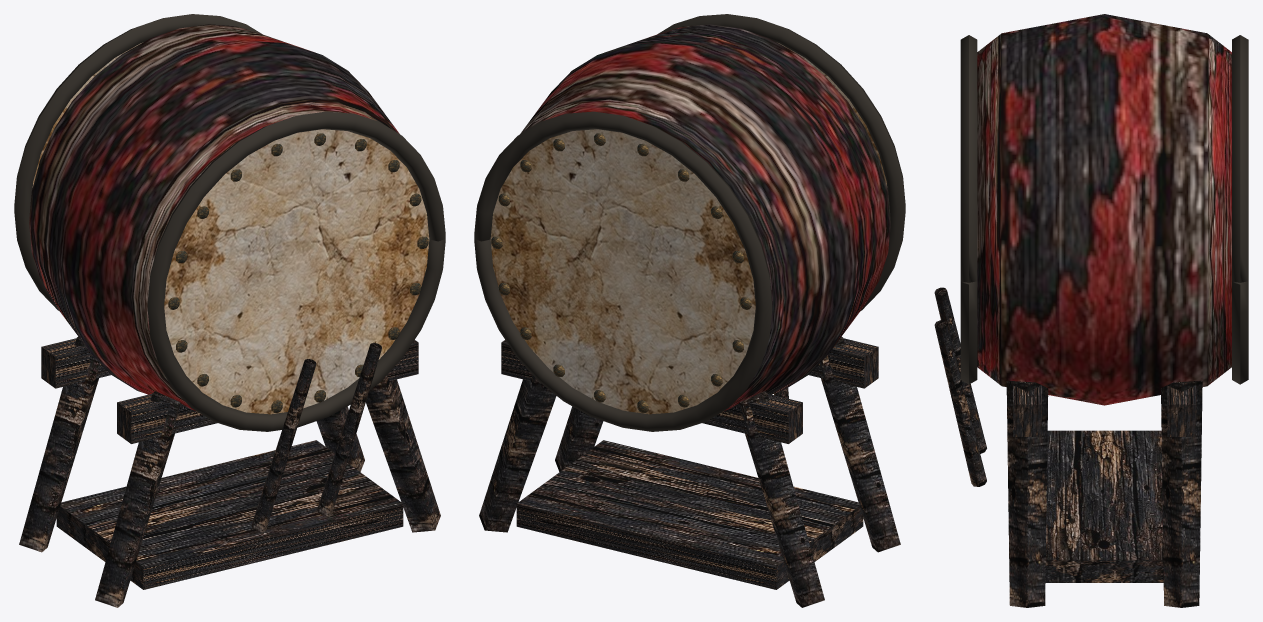
File: nyanisyarud-hyakken-taiko.glb
The picture shows the model from 3 angles, left to right: view 1: azimuth 30°, elevation 25°; view 2: azimuth 150°, elevation 25°; view 3: azimuth 270°, elevation 25°; orthographic projection.
Parts seen in each view (by area): view 1: Drum, Stand; view 2: Drum, Stand; view 3: Drum, Stand.
Part boxes in pixels (x1,y1,x2,y2): Drum: (14,14,445,431); Stand: (19,336,440,607); Drum: (474,14,905,431); Stand: (479,336,900,607); Drum: (960,14,1248,405); Stand: (934,287,1202,607).
Size of the model in its own units: 1.26 by 1.72 by 0.9776.
5 materials, 5 textured.
